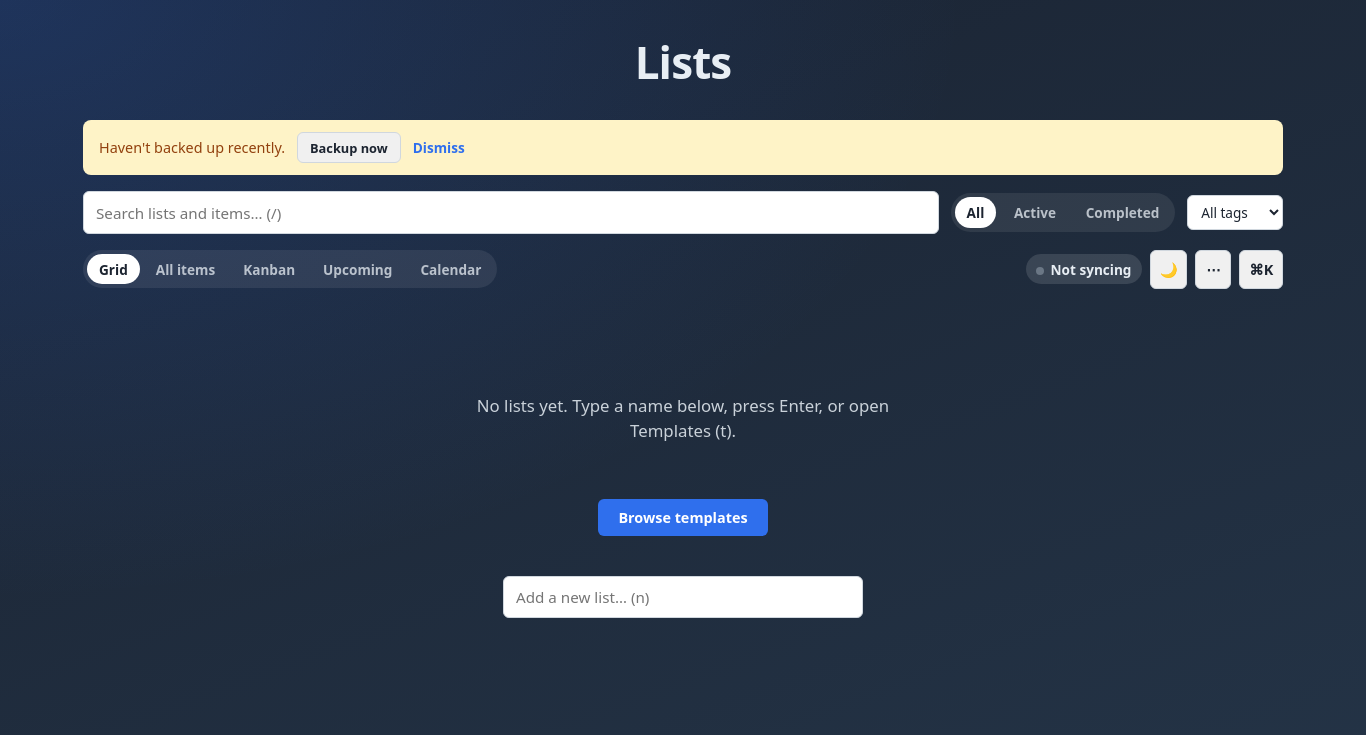
Test: clicking an item opens the details modal
The width and height of the screenshot is (1366, 735).
Type "Errands" into the field labelled "Add a new list… (n)" at (683,597), box [503,576,863,618]
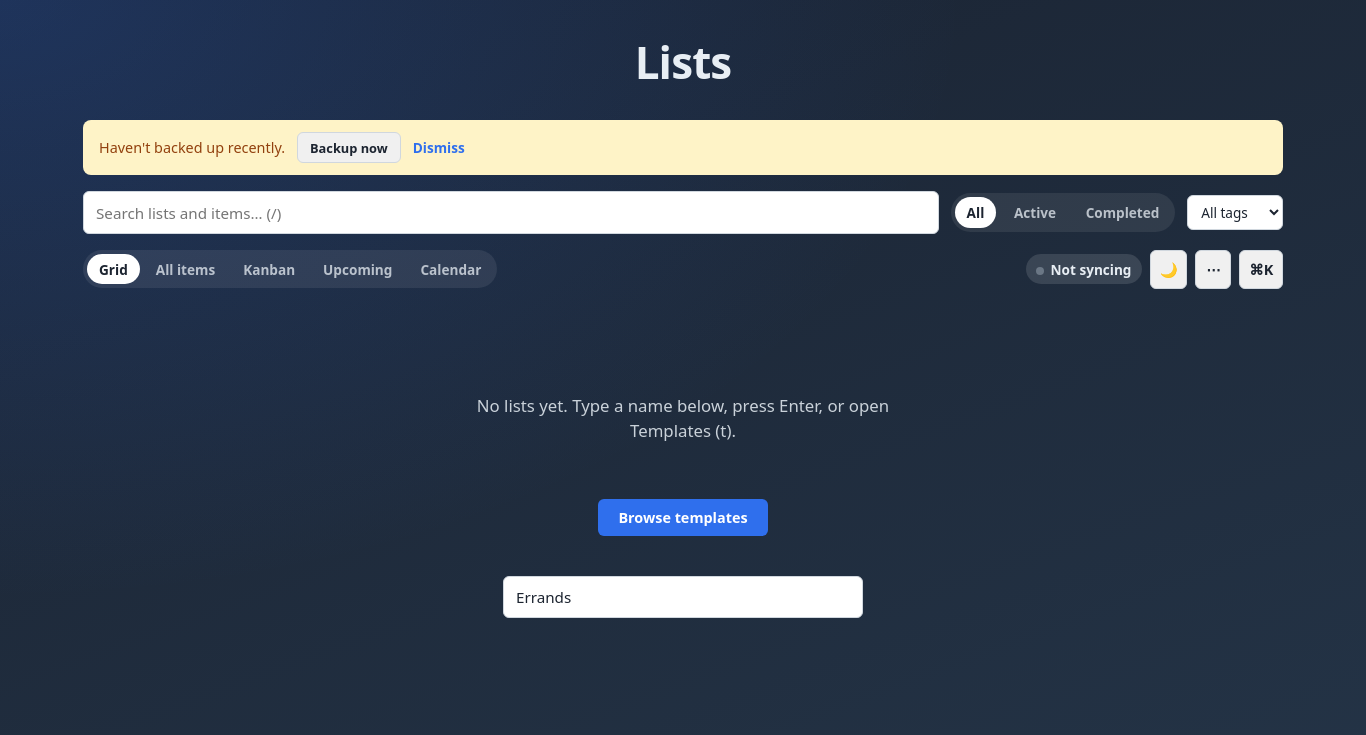
Press Enter in the field named "Add a new list", box [503,576,863,618]
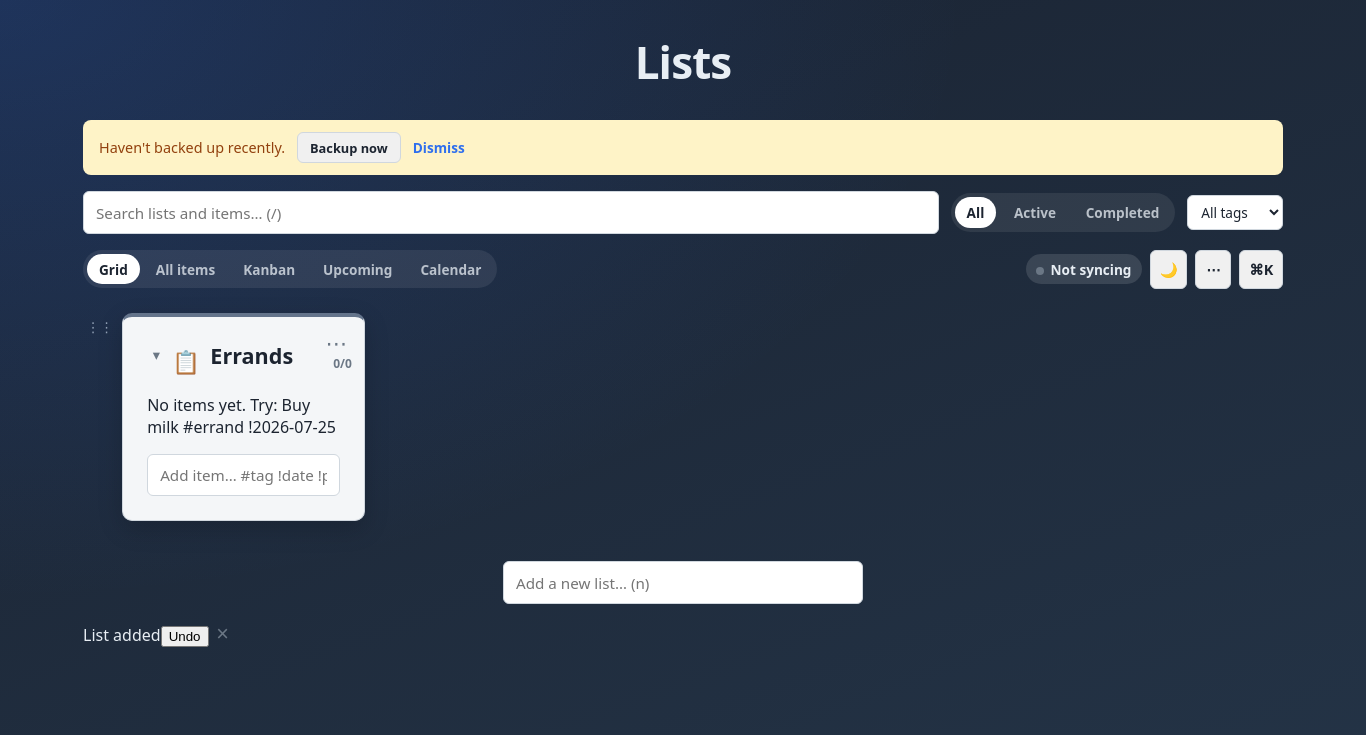
Type "Buy milk" into the field named "Add item to Errands" at (244,475), box [147,454,340,496]
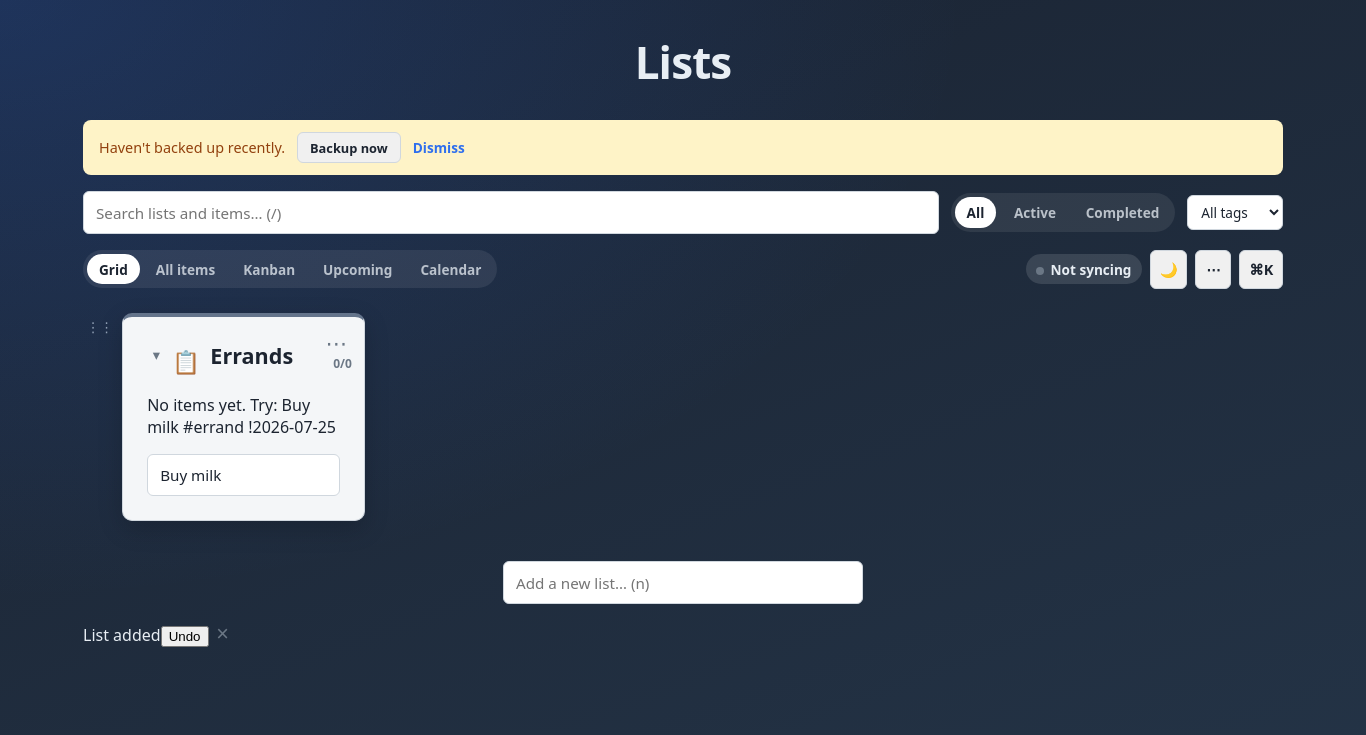
Press Enter in the field named "Add item to Errands", box [147,454,340,496]
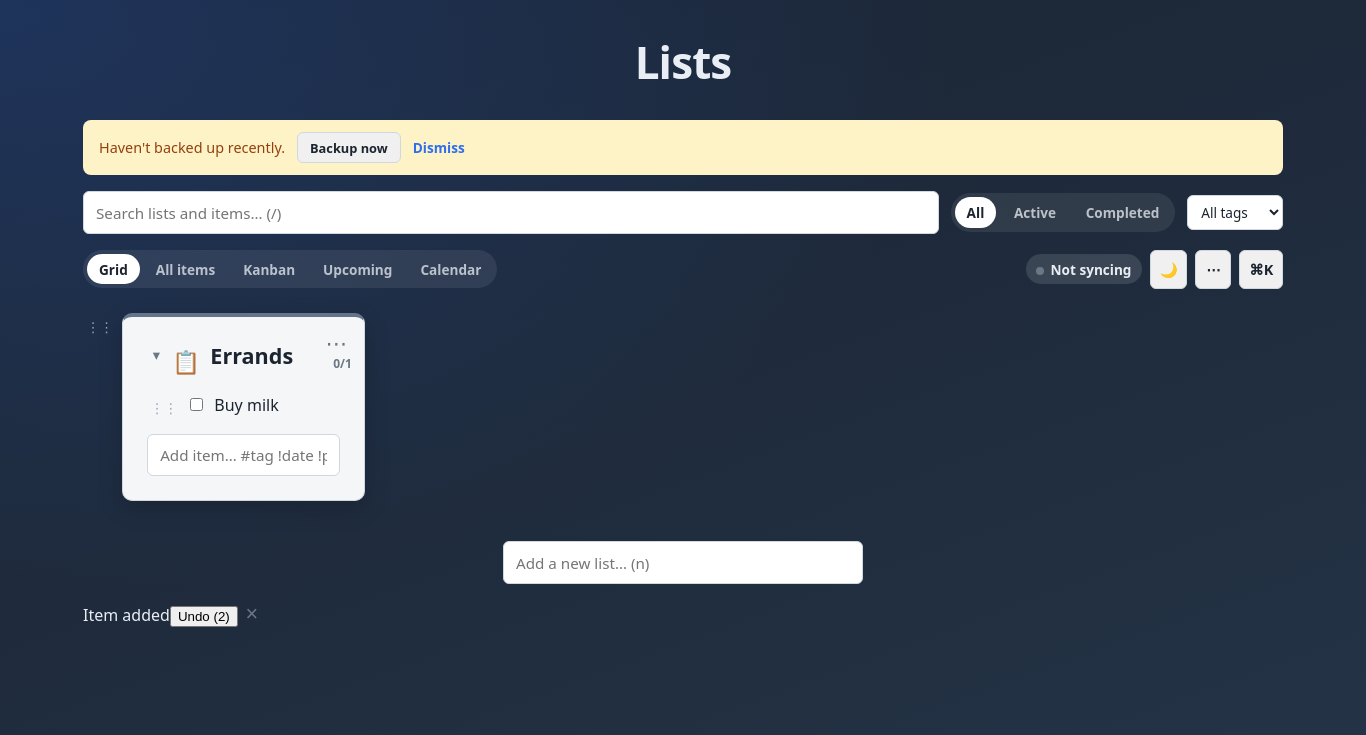
Click the button with aria-label "Open details for Buy milk" at (246,405), box [214,394,279,416]
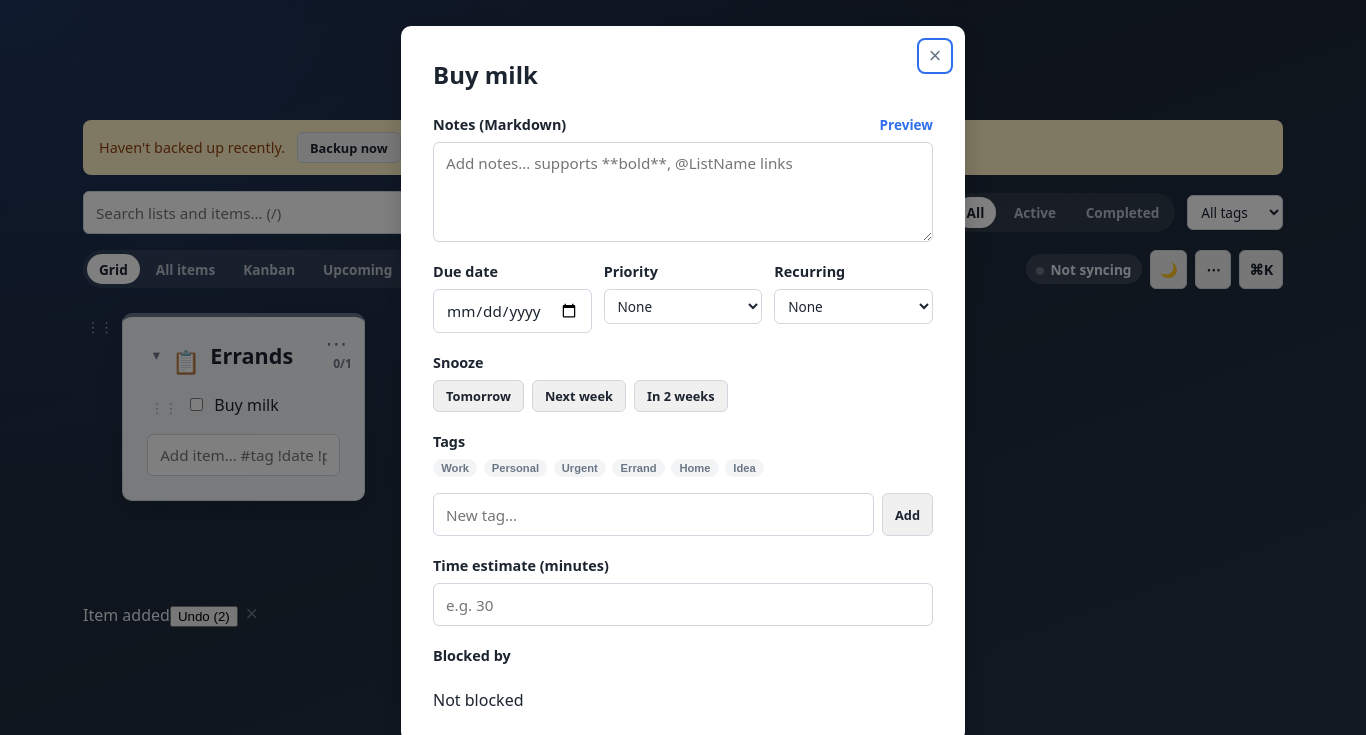
Expected: the button "Buy milk" is shown, [433,58,538,91]
Expected: the text box labelled "Notes (Markdown)" is shown, [433,142,933,242]
